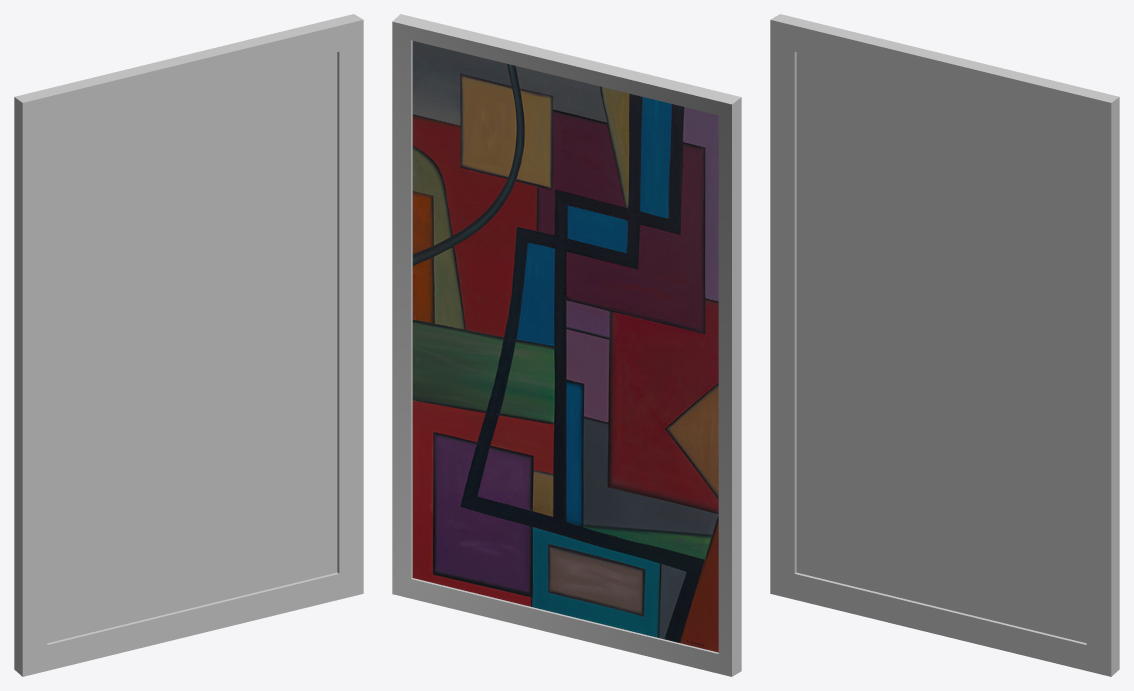
File: HospitalPainting.fbx
3 renders of one model, left to right at view 1: azimuth 30°, elevation 25°; view 2: azimuth 150°, elevation 25°; view 3: azimuth 330°, elevation 25°, orthographic.
Parts seen in each view (by area): view 1: pPlane4; view 2: pPlane4; view 3: pPlane4.
Part boxes in pixels (<box>): pPlane4: <box>14,14,363,676</box>; pPlane4: <box>392,14,741,676</box>; pPlane4: <box>770,14,1119,676</box>.
Bounding box in the file's own units: 0.675 × 1.09 × 0.0314.
